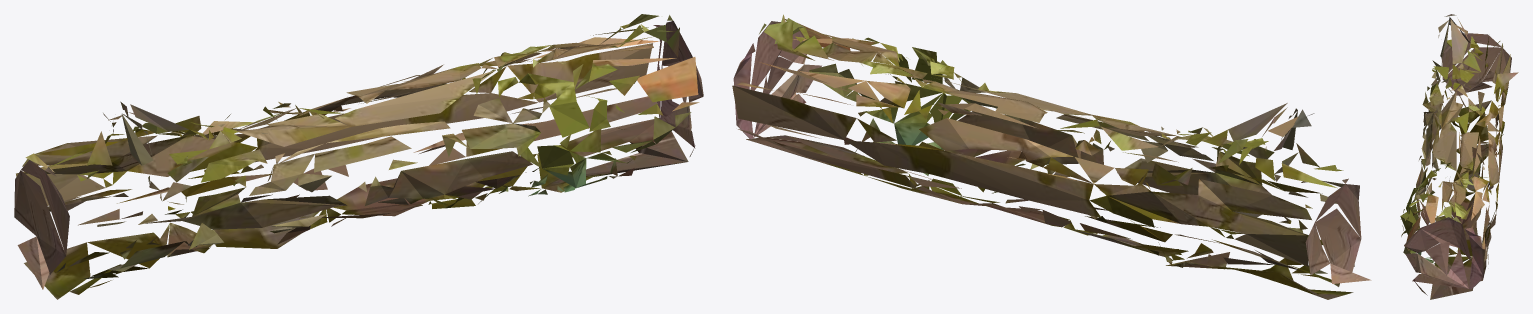
Rendered from log.glb.
The picture shows the model from 3 angles, left to right: view 1: azimuth 30°, elevation 25°; view 2: azimuth 150°, elevation 25°; view 3: azimuth 270°, elevation 25°; orthographic projection. The views are drawn at different scales.
Visible parts, largest first — view 1: geometry_0; view 2: geometry_0; view 3: geometry_0.
Boxes of the visible parts, x1=… form: geometry_0: x1=14, y1=14, x2=703, y2=299; geometry_0: x1=732, y1=14, x2=1371, y2=299; geometry_0: x1=1400, y1=14, x2=1518, y2=299.
Size of the model in its own units: 2.02 by 0.5536 by 0.5103.
1 material, 1 textured.
